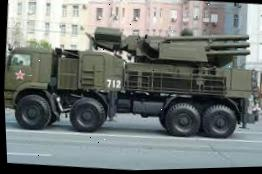truck: (1, 4, 262, 153)
